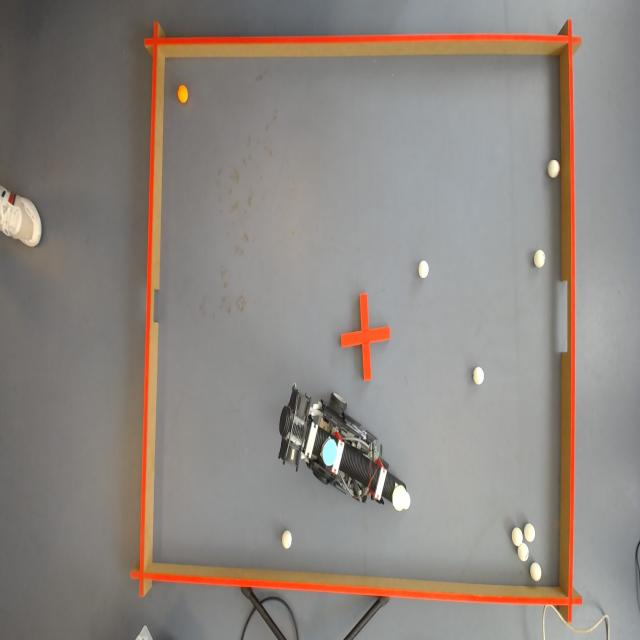orange: (176, 85, 189, 105)
robot: (276, 378, 412, 514)
robot-front: (395, 492, 409, 514)
robot-rear: (323, 436, 339, 464)
white: (529, 561, 544, 585), (547, 160, 561, 179), (523, 523, 536, 542), (518, 543, 530, 563), (535, 250, 547, 270), (281, 532, 293, 550), (474, 367, 485, 385), (512, 527, 523, 545), (419, 262, 429, 278)
